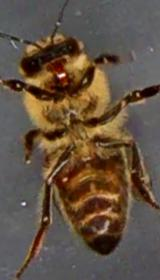varroa_mite: (48, 160, 76, 194)
